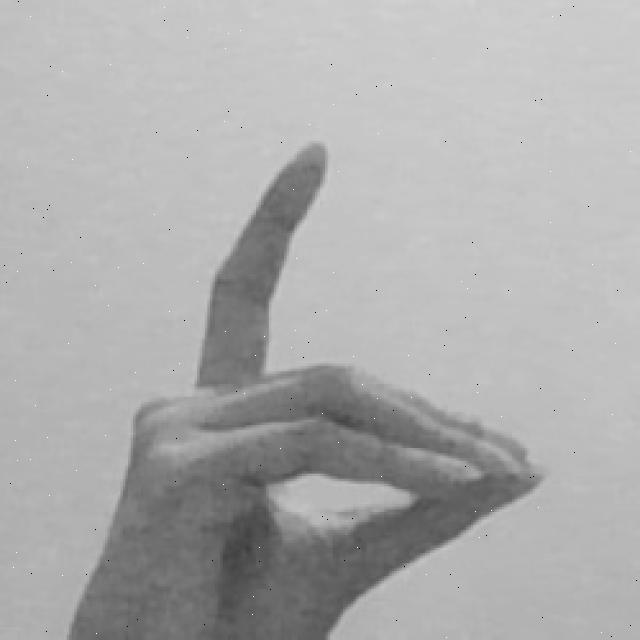D: (68, 137, 546, 640)
